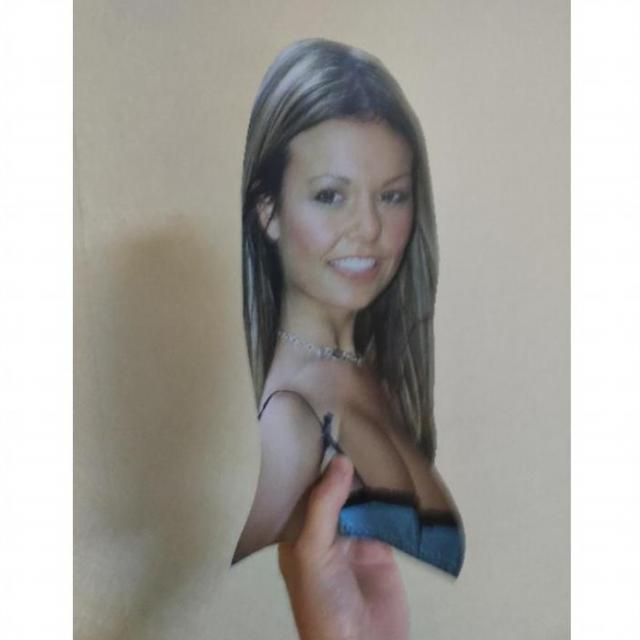photo: (220, 34, 480, 593)
